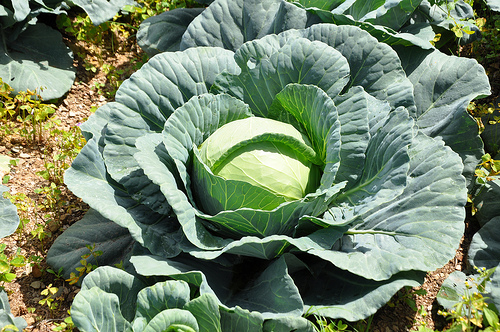cabbage: (60, 0, 493, 323)
